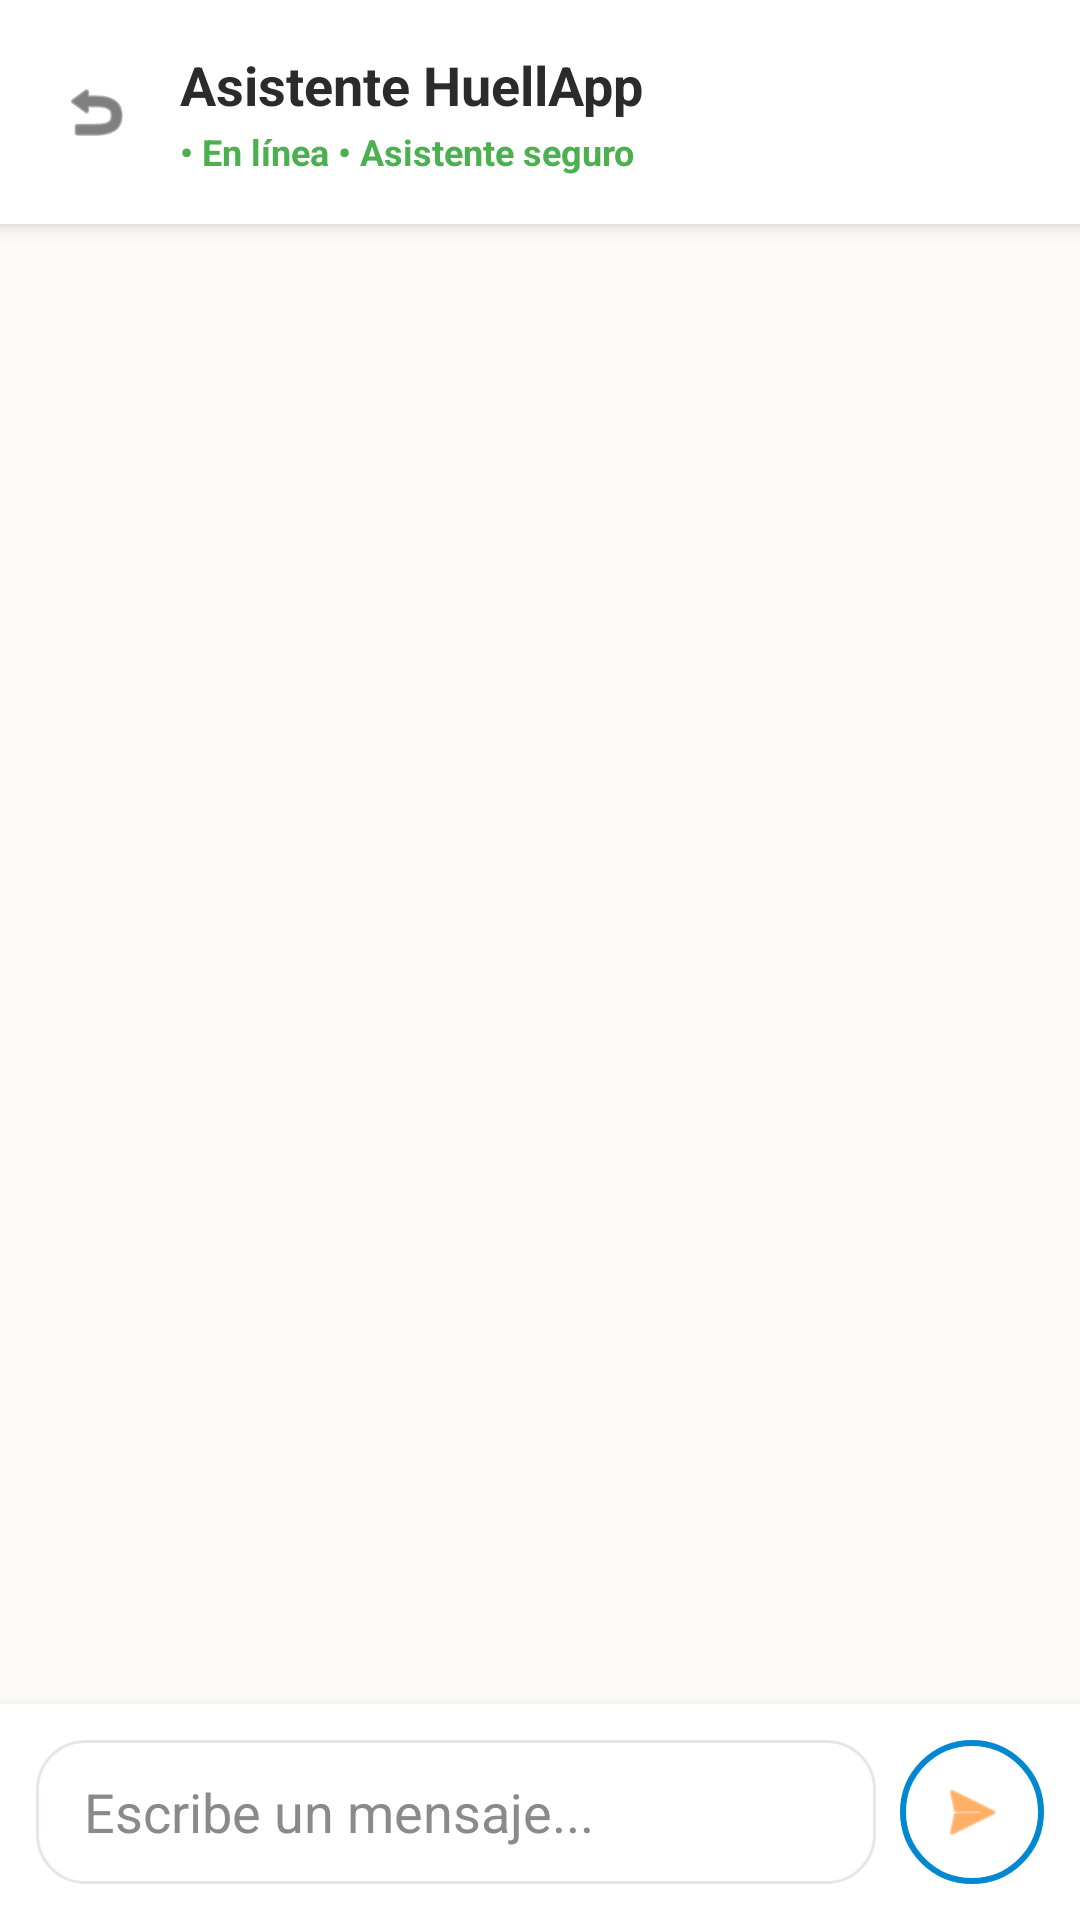

Icons on this 1080*1920 Android screen, each with the point to tap as [x,y]:
revert: [97,112]
send: [972,1812]
